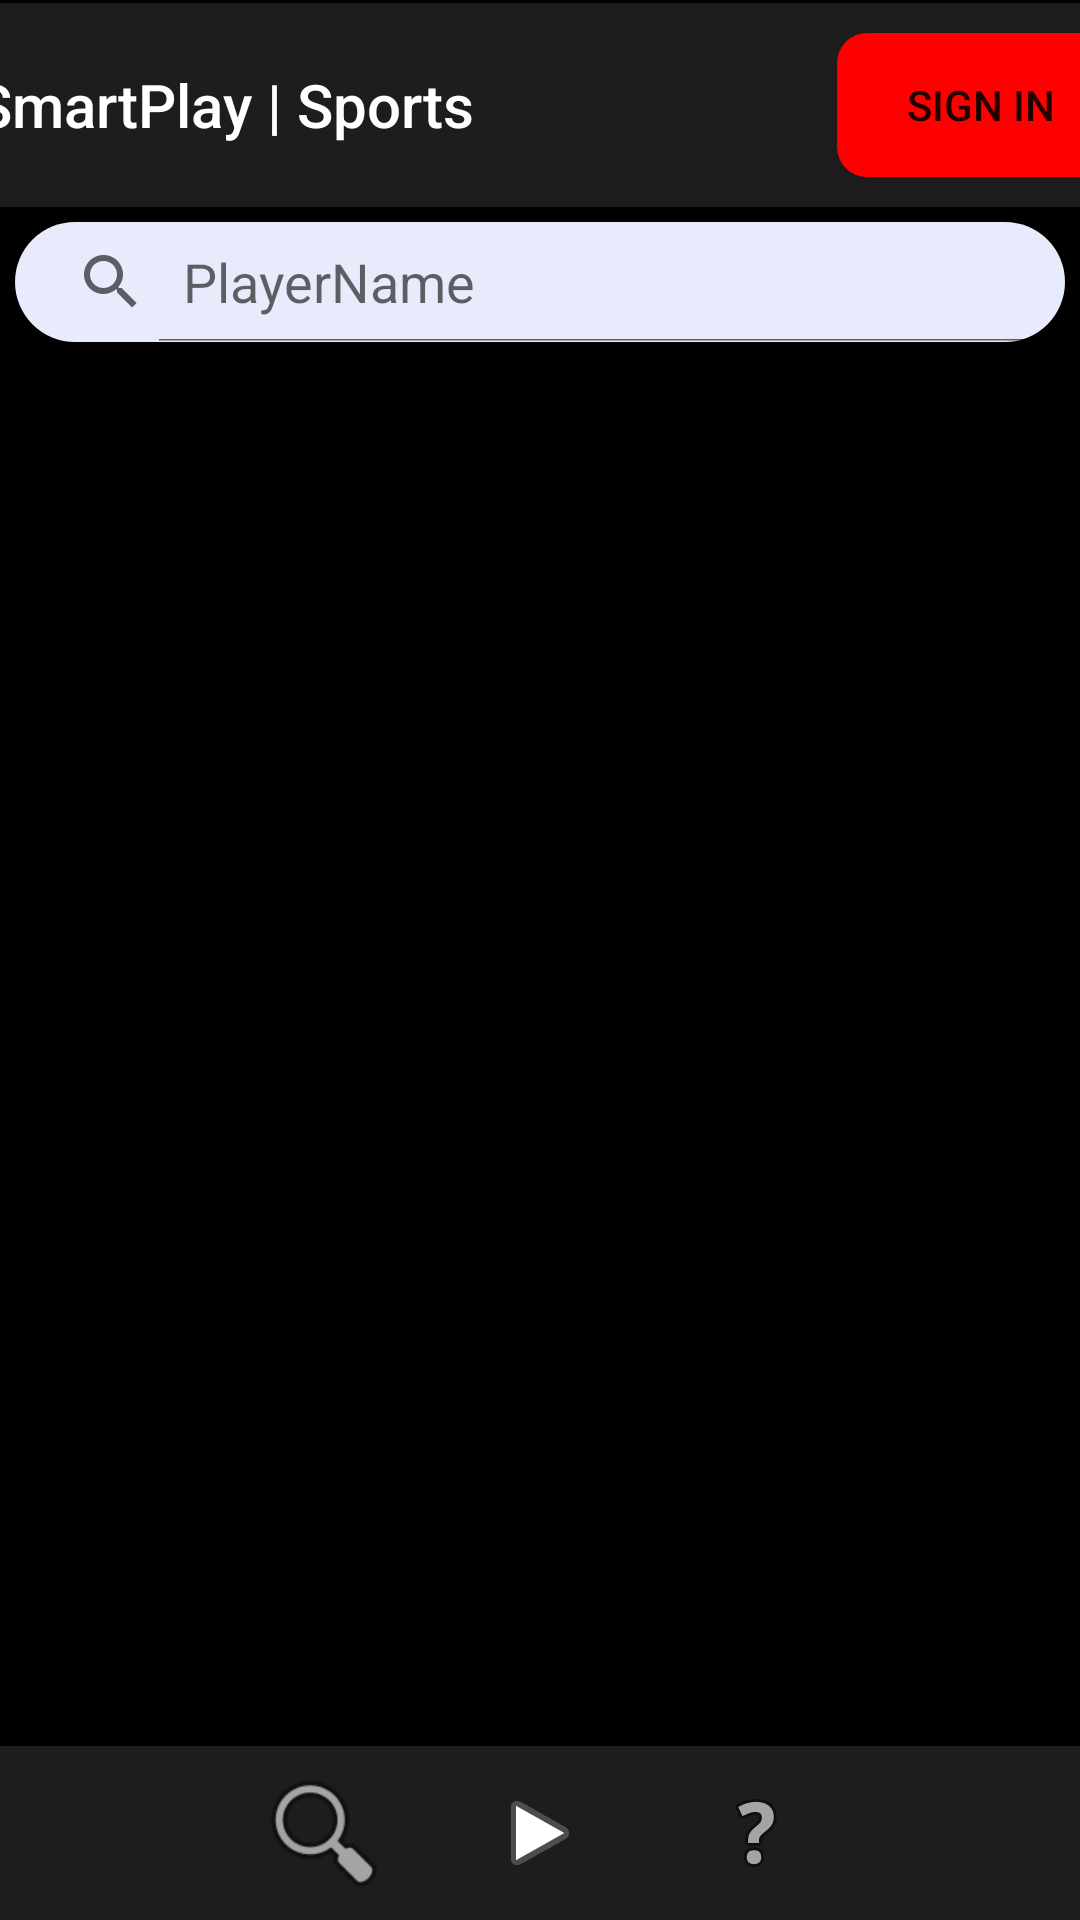

Where icons sit on this 1080 × 1920 app screen, as (x1, y1, x2, y2):
about: (738, 1802, 774, 1864)
play: (511, 1801, 569, 1865)
search: (275, 1785, 373, 1883)
